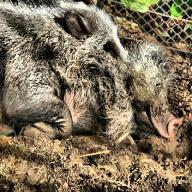boar: (0, 0, 192, 151)
